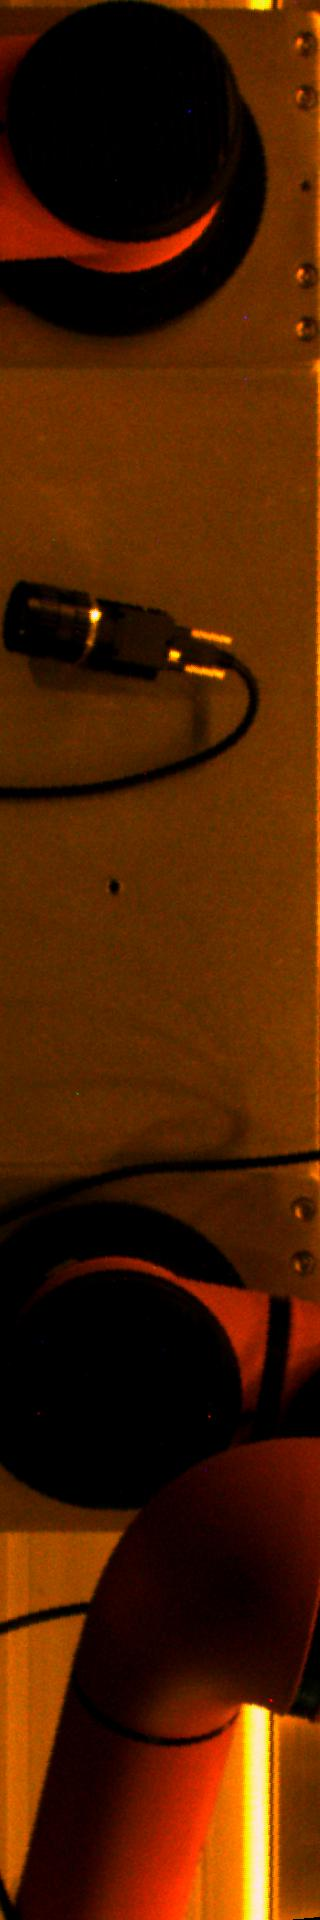keyPoint_2: (98, 872, 128, 902)
